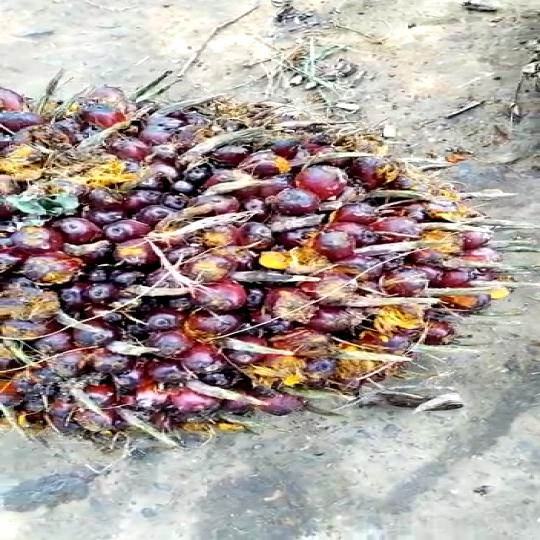kurang masak: (0, 93, 494, 454)
